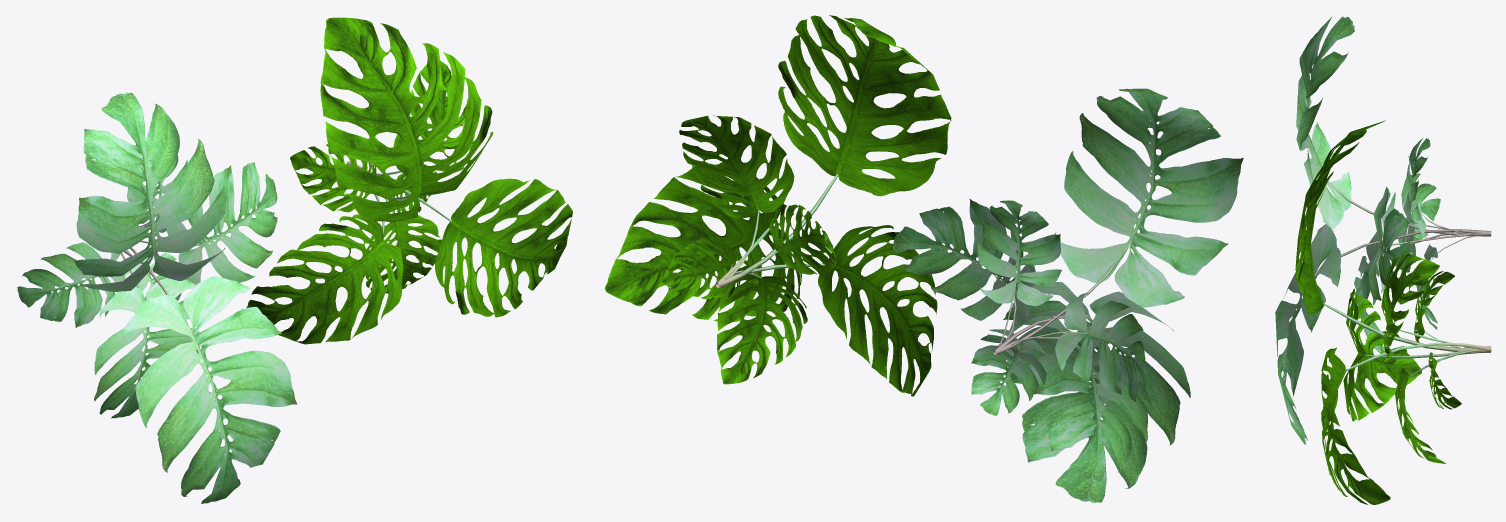
File: Cây trầu bà.glb
3 renders of one model, left to right at view 1: azimuth 30°, elevation 25°; view 2: azimuth 150°, elevation 25°; view 3: azimuth 270°, elevation 25°, orthographic. The views are drawn at different scales.
Parts seen in each view (by area): view 1: Monstera_001_0, Monstera_002_1; view 2: Monstera_001_0, Monstera_002_1; view 3: Monstera_002_1, Monstera_001_0.
Boxes of the visible parts, x1=… form: Monstera_001_0: x1=17, y1=92, x2=297, y2=503; Monstera_002_1: x1=246, y1=17, x2=572, y2=344; Monstera_001_0: x1=892, y1=88, x2=1243, y2=503; Monstera_002_1: x1=604, y1=15, x2=951, y2=396; Monstera_002_1: x1=1295, y1=120, x2=1491, y2=504; Monstera_001_0: x1=1275, y1=16, x2=1491, y2=444.
Size of the model in its own units: 2.69 by 2.04 by 1.
Materials: 1 (1 with a texture image).
